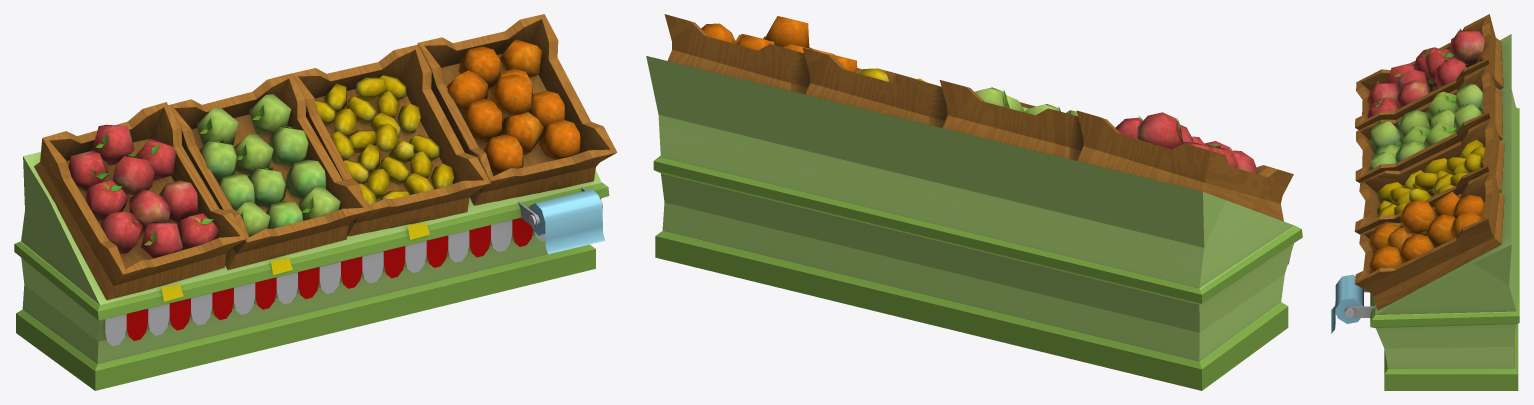
Rendered from interior_display_stand_fruits_001_gr_mesh.FBX.
3 views of the same model, side by side, from view 1: azimuth 30°, elevation 25°; view 2: azimuth 150°, elevation 25°; view 3: azimuth 270°, elevation 25° (orthographic). The views are drawn at different scales.
Parts seen in each view (by area): view 1: interior_display_stand_fruits_001_gr; view 2: interior_display_stand_fruits_001_gr; view 3: interior_display_stand_fruits_001_gr.
Boxes of the visible parts, x1=… form: interior_display_stand_fruits_001_gr: x1=14, y1=14, x2=617, y2=390; interior_display_stand_fruits_001_gr: x1=646, y1=14, x2=1302, y2=390; interior_display_stand_fruits_001_gr: x1=1331, y1=14, x2=1519, y2=390.
Bounding box in the file's own units: 28.97 × 11.4 × 10.78.
